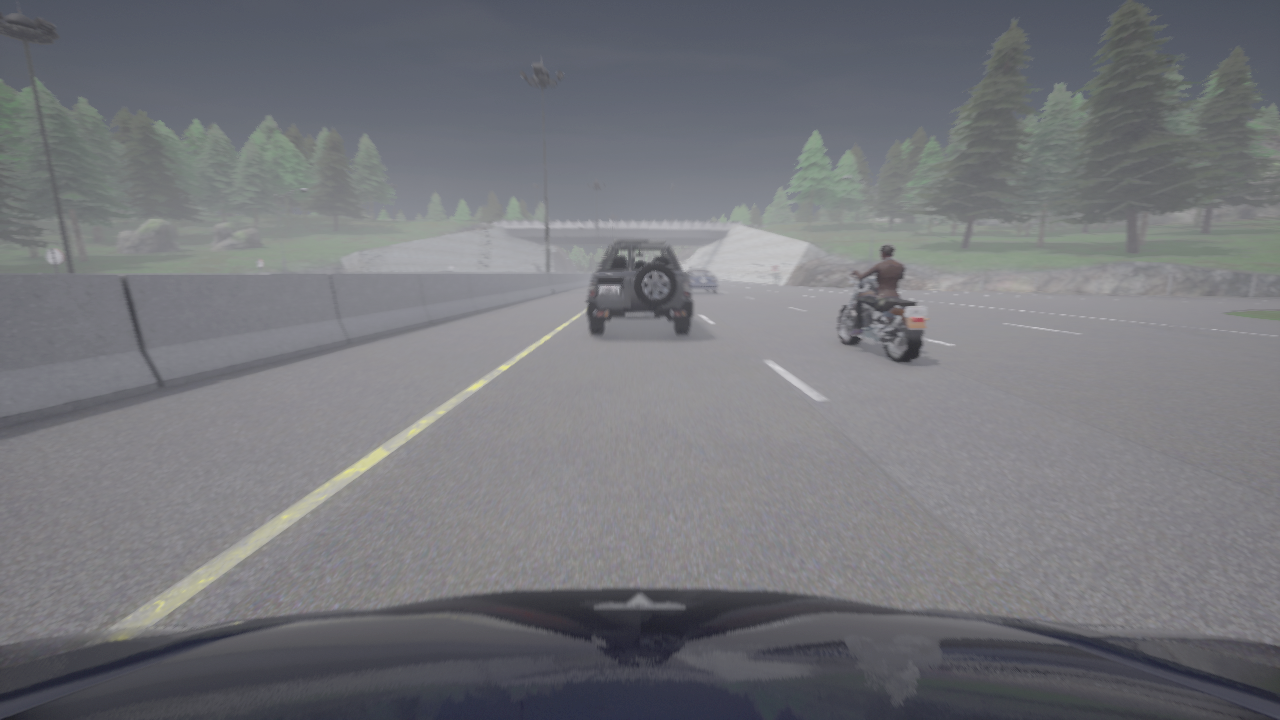cyclist: (0, 588, 1279, 719), (587, 240, 692, 335), (836, 267, 928, 363), (686, 269, 718, 293)
